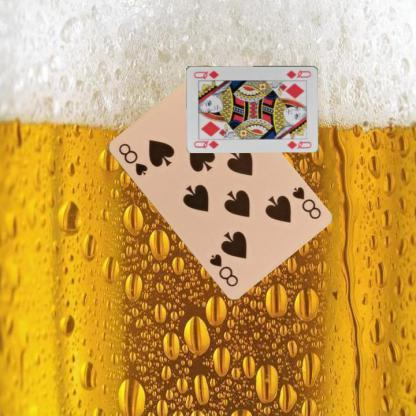8s: (114, 140, 148, 178), (289, 184, 322, 220)
Qd: (192, 136, 222, 150), (284, 68, 312, 80)
